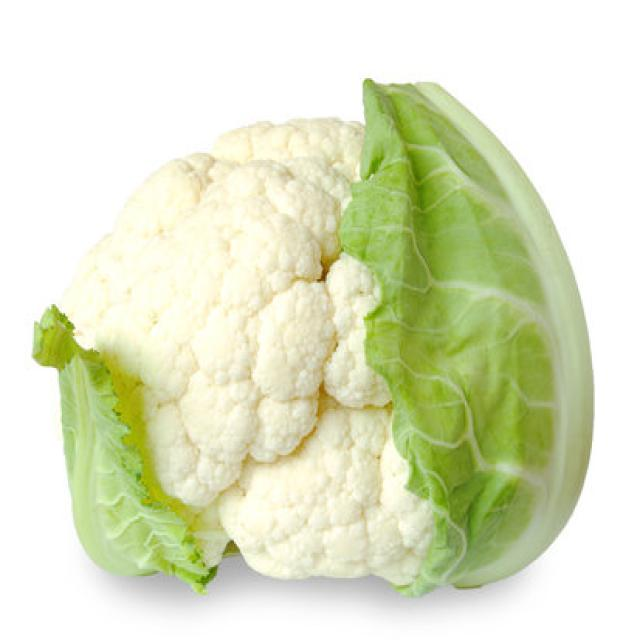Cauliflower: (52, 94, 587, 587)
